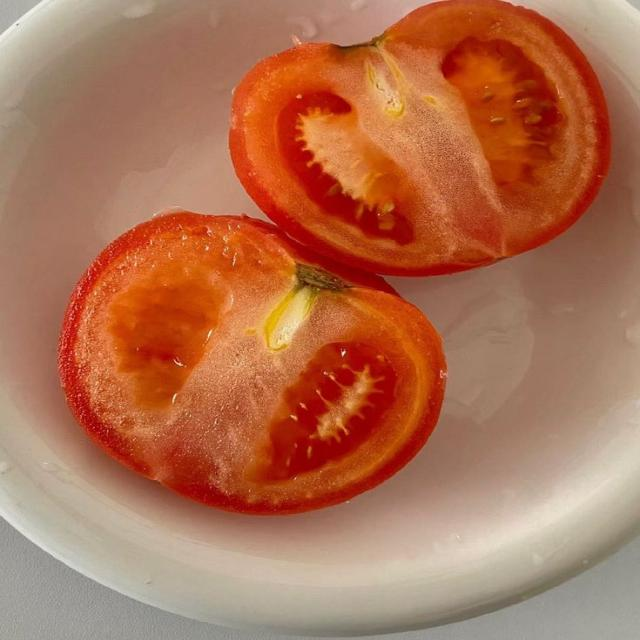sliced_tomato: (60, 212, 444, 513), (230, 0, 609, 274)
